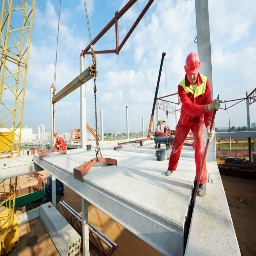helmet: (182, 53, 202, 78)
person: (171, 52, 219, 197)
vest: (177, 79, 215, 134)
